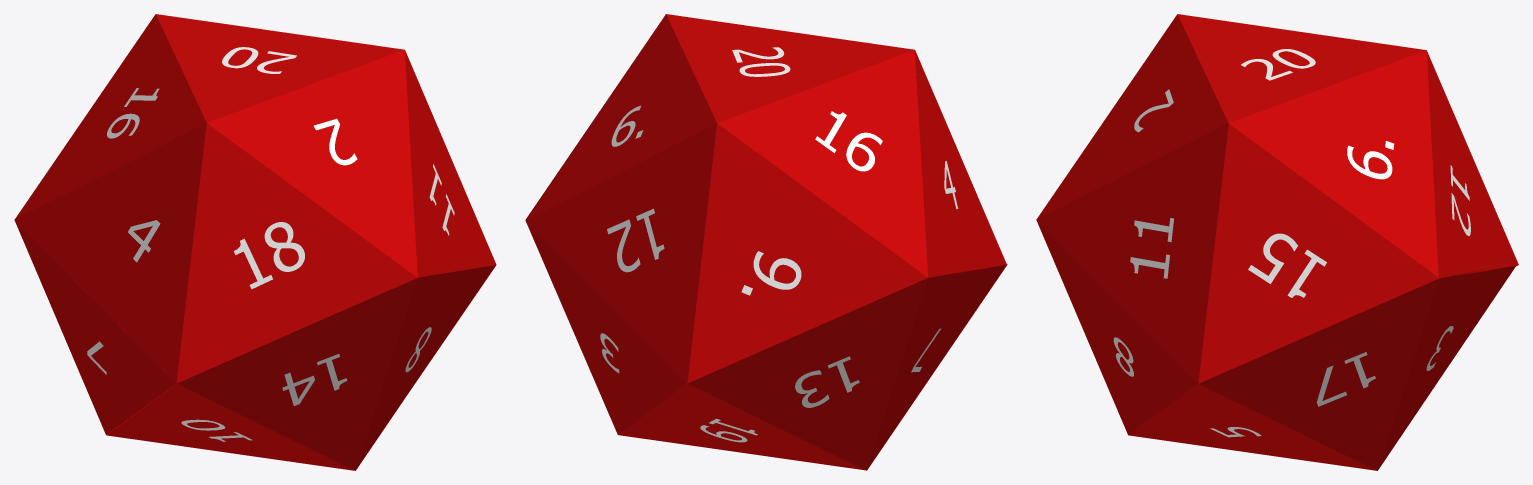
The model's file is dnd_dice_d20.dae.
The picture shows the model from 3 angles, left to right: view 1: azimuth 30°, elevation 25°; view 2: azimuth 150°, elevation 25°; view 3: azimuth 270°, elevation 25°; orthographic projection.
Parts seen in each view (by area): view 1: group_4, group_19, group_5, group_17, group_20, group_22, group_3, group_16, group_10, group_9, group_25, instance_4 (+4 smaller); view 2: group_6, group_23, group_20, group_24, group_21, group_22, group_13, group_19, group_8, group_3, instance_2, instance_14 (+3 smaller); view 3: group_15, group_16, group_21, group_14, group_5, group_22, group_9, group_23, group_13, group_18, group_12, instance_17 (+4 smaller).
Boxes of the visible parts, <box> form: group_4: <box>176,123,417,382</box>; group_19: <box>15,123,206,382</box>; group_5: <box>207,50,417,277</box>; group_17: <box>177,278,417,470</box>; group_20: <box>14,14,206,219</box>; group_22: <box>156,14,403,122</box>; group_3: <box>14,220,176,434</box>; group_16: <box>405,50,496,277</box>; group_10: <box>106,383,354,470</box>; group_9: <box>356,265,495,469</box>; group_25: <box>264,222,304,271</box>; instance_4: <box>282,354,347,405</box>; group_6: <box>687,123,927,383</box>; group_23: <box>526,123,716,383</box>; group_20: <box>717,50,928,277</box>; group_24: <box>688,278,927,470</box>; group_21: <box>526,14,716,220</box>; group_22: <box>666,14,914,122</box>; group_13: <box>525,220,686,434</box>; group_19: <box>915,50,1006,277</box>; group_8: <box>618,383,864,470</box>; group_3: <box>866,265,1006,470</box>; instance_2: <box>815,111,882,171</box>; instance_14: <box>607,208,664,272</box>; group_15: <box>1198,124,1439,383</box>; group_16: <box>1036,123,1228,383</box>; group_21: <box>1229,50,1438,277</box>; group_14: <box>1198,278,1439,470</box>; group_5: <box>1036,14,1227,219</box>; group_22: <box>1177,14,1426,123</box>; group_9: <box>1037,221,1197,435</box>; group_23: <box>1426,50,1518,278</box>; group_13: <box>1378,265,1516,469</box>; group_18: <box>1151,384,1376,470</box>; group_12: <box>1129,418,1375,470</box>; instance_17: <box>1248,233,1326,297</box>.
Bounding box in the file's own units: 1.36 × 1.41 × 1.16.
